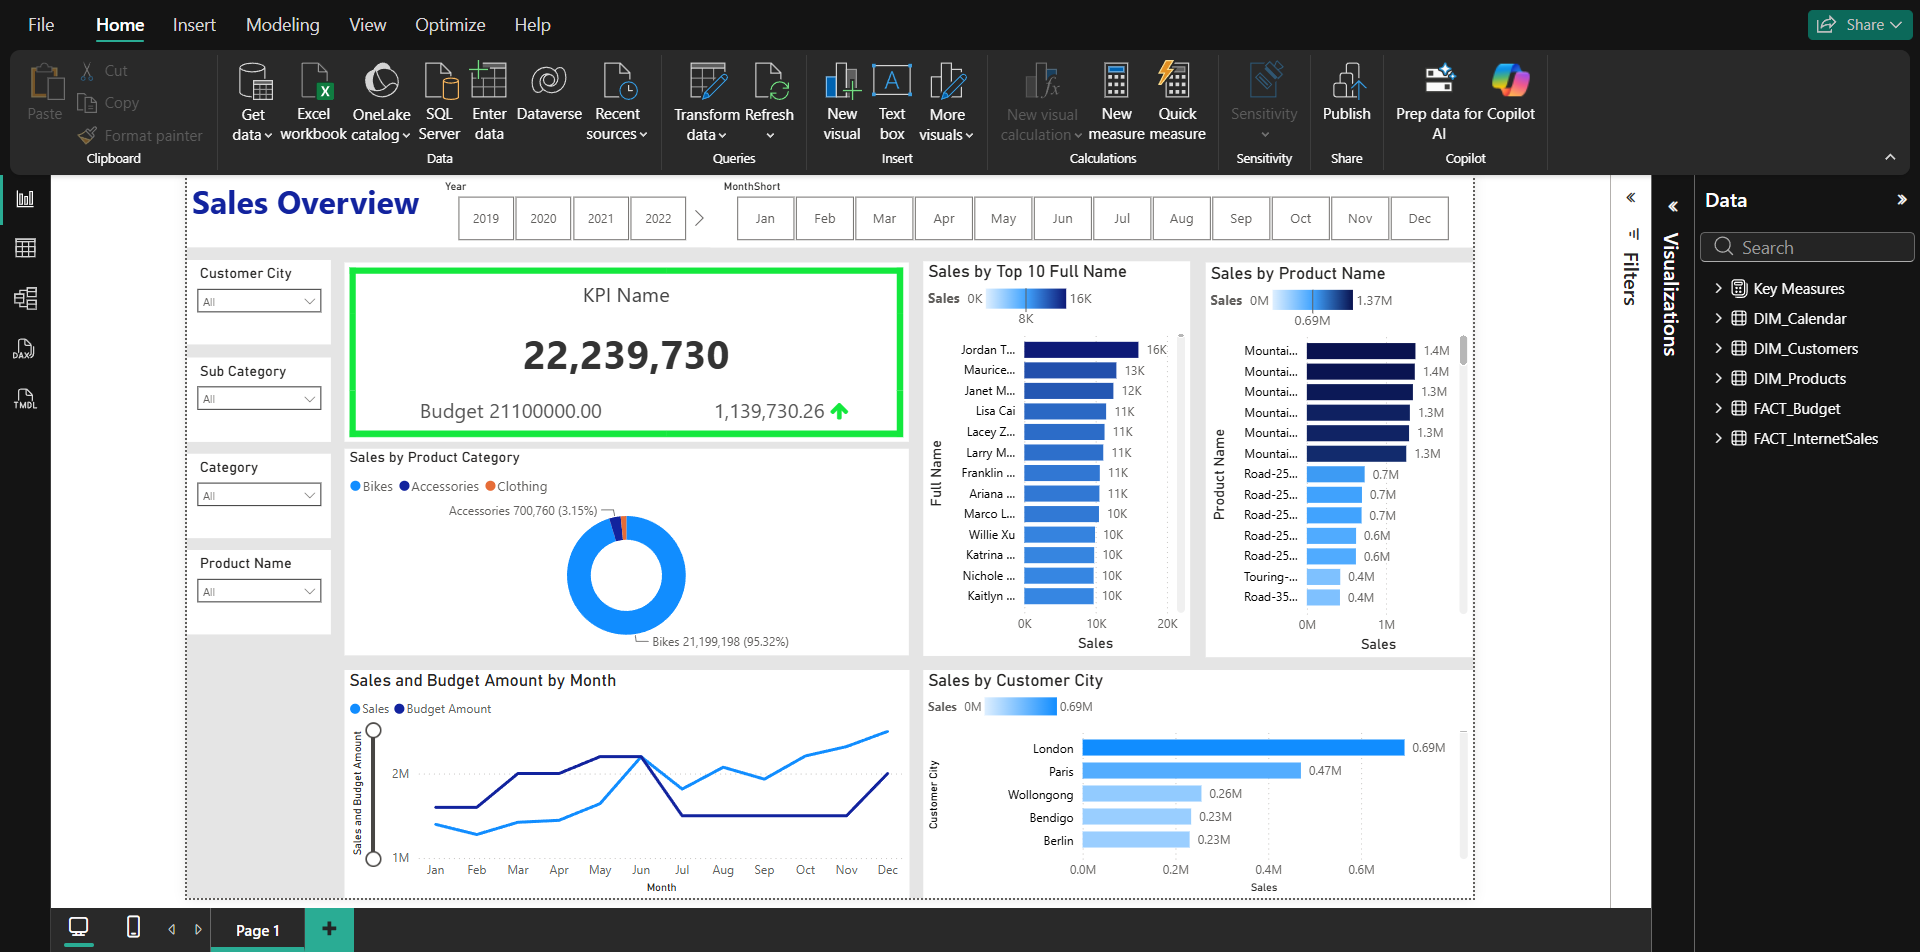

Layout of this report page (visuals, bound fields, positions):
{"tool":"powerbi","page":{"name":"Page 1","canvas":[1280,720],"ordinal":0},"visuals":[{"type":"textbox","box":[0,0,1279.7,71.6],"z":0},{"type":"slicer","fields":{"Values":["DIM_Customers.Customer City"]},"box":[0,85.1,143.2,83.8],"z":1000},{"type":"slicer","fields":{"Values":["DIM_Products.Sub Category"]},"box":[0,181.1,143.2,83.8],"z":2000},{"type":"slicer","fields":{"Values":["DIM_Products.Product Category"]},"box":[0,277,143.2,83.8],"z":3000},{"type":"slicer","fields":{"Values":["DIM_Products.Product Name"]},"box":[0,373,143.2,83.8],"z":4000},{"type":"slicer","fields":{"Values":["DIM_Calendar.Year"]},"box":[244.3,0,277.1,71.4],"z":5000},{"type":"slicer","fields":{"Values":["DIM_Calendar.MonthShort"]},"box":[521.6,0,758.1,71.6],"z":6000},{"type":"BBED0A4D4D8D44CE93CF2DAFADEE466C","fields":{"actual":["FACT_InternetSales.Sales"],"target1":["FACT_Budget.Budget Amount"],"target2":["Key Measures.Sales - Budget"]},"box":[157.1,87.1,561.4,178.6],"z":7000},{"type":"donutChart","fields":{"Category":["DIM_Products.Product Category"],"Y":["Key Measures.Sales"]},"box":[157.1,272.9,561.4,205.7],"z":8000},{"type":"lineChart","fields":{"Y":["Key Measures.Sales","Key Measures.Budget Amount"],"Category":["DIM_Calendar.MonthShort"]},"box":[157.1,492.9,561.4,227.1],"z":9000},{"type":"barChart","title":"Sales by Top 10 Full Name","fields":{"Y":["Key Measures.Sales"],"Category":["DIM_Customers.Full Name"]},"box":[732.9,85.7,265.7,392.9],"z":10000},{"type":"barChart","fields":{"Category":["DIM_Products.Product Name"],"Y":["Key Measures.Sales"]},"box":[1014.3,87.1,265.7,392.9],"z":11000},{"type":"clusteredBarChart","fields":{"Category":["DIM_Customers.Customer City"],"Y":["Key Measures.Sales"]},"box":[732.9,492.9,547.1,227.1],"z":12000}]}

Visuals, with their boxes on the page's 1280x720 design canvas (x1, y1, x2, y2). These are canvas units, not pixel positions in the 1920x952 screenshot, which may show the page scaled, cropped or inside an application window:
textbox: 0, 0, 1280, 72
slicer - DIM_Customers.Customer City: 0, 85, 143, 169
slicer - DIM_Products.Sub Category: 0, 181, 143, 265
slicer - DIM_Products.Product Category: 0, 277, 143, 361
slicer - DIM_Products.Product Name: 0, 373, 143, 457
slicer - DIM_Calendar.Year: 244, 0, 521, 71
slicer - DIM_Calendar.MonthShort: 522, 0, 1280, 72
BBED0A4D4D8D44CE93CF2DAFADEE466C - FACT_InternetSales.Sales x FACT_Budget.Budget Amount: 157, 87, 718, 266
donutChart - DIM_Products.Product Category x Key Measures.Sales: 157, 273, 718, 479
lineChart - Key Measures.Sales x Key Measures.Budget Amount: 157, 493, 718, 720
"Sales by Top 10 Full Name" barChart: 733, 86, 999, 479
barChart - DIM_Products.Product Name x Key Measures.Sales: 1014, 87, 1280, 480
clusteredBarChart - DIM_Customers.Customer City x Key Measures.Sales: 733, 493, 1280, 720
